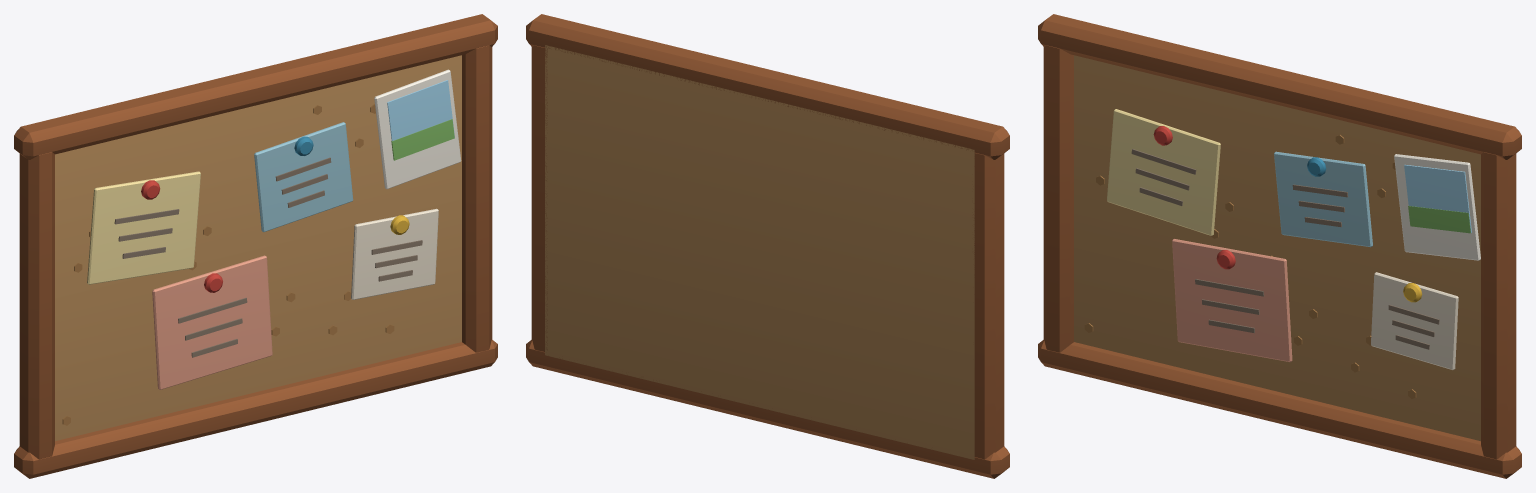
The model's file is cortica.glb.
3 renders of one model, left to right at view 1: azimuth 30°, elevation 25°; view 2: azimuth 150°, elevation 25°; view 3: azimuth 330°, elevation 25°, orthographic.
Visible parts, largest first — view 1: quadro, bilhetes, pintas; view 2: quadro; view 3: quadro, bilhetes, pintas.
Part boxes in pixels (left/top/right/bottom): quadro: left=14, top=14, right=497, bottom=478; bilhetes: left=87, top=69, right=461, bottom=389; pintas: left=62, top=104, right=394, bottom=425; quadro: left=526, top=14, right=1009, bottom=478; quadro: left=1038, top=14, right=1521, bottom=478; bilhetes: left=1107, top=109, right=1480, bottom=369; pintas: left=1084, top=135, right=1416, bottom=398.
Size of the model in its own units: 1.25 by 0.87 by 0.075.
